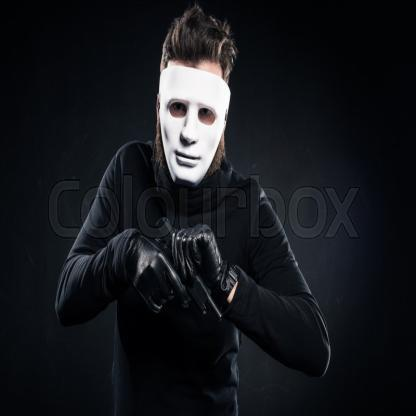criminal: (54, 4, 334, 416)
weapon: (143, 216, 224, 322)
